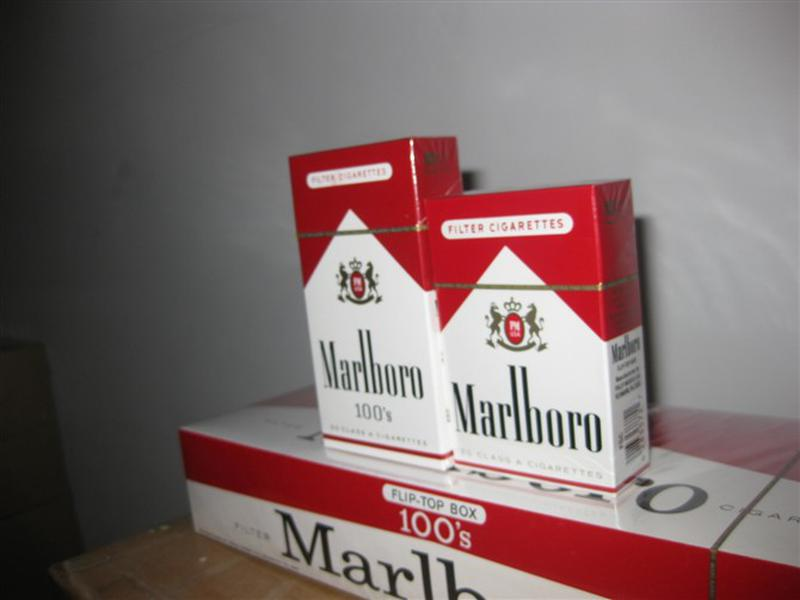marlboro_red: (447, 194, 602, 471), (304, 154, 427, 451)
